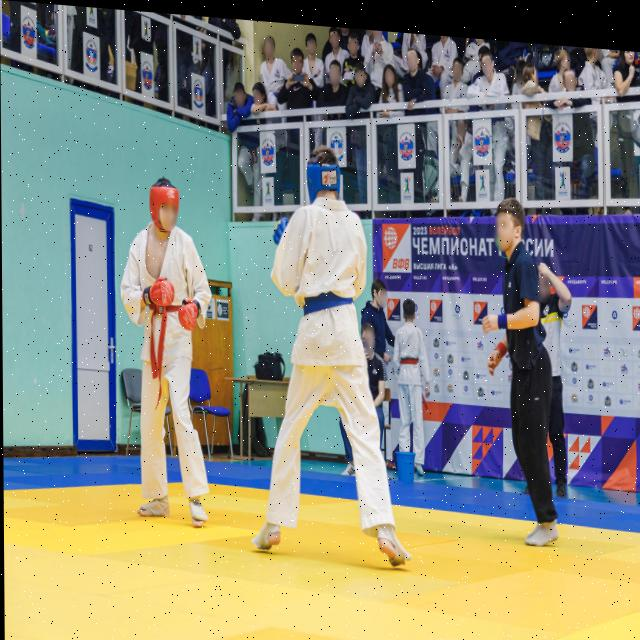Person: (263, 134, 399, 564), (123, 164, 219, 547), (480, 184, 564, 553), (538, 248, 575, 502), (394, 289, 432, 493), (356, 315, 388, 447), (441, 104, 471, 201), (286, 40, 313, 116), (262, 28, 285, 106), (367, 265, 388, 348), (345, 55, 374, 114), (324, 53, 350, 114), (377, 58, 402, 113), (403, 42, 429, 93), (248, 74, 274, 122), (223, 76, 250, 120), (478, 43, 500, 90), (446, 49, 468, 91), (305, 23, 317, 85), (345, 25, 361, 62), (330, 21, 343, 56), (564, 59, 579, 86)
